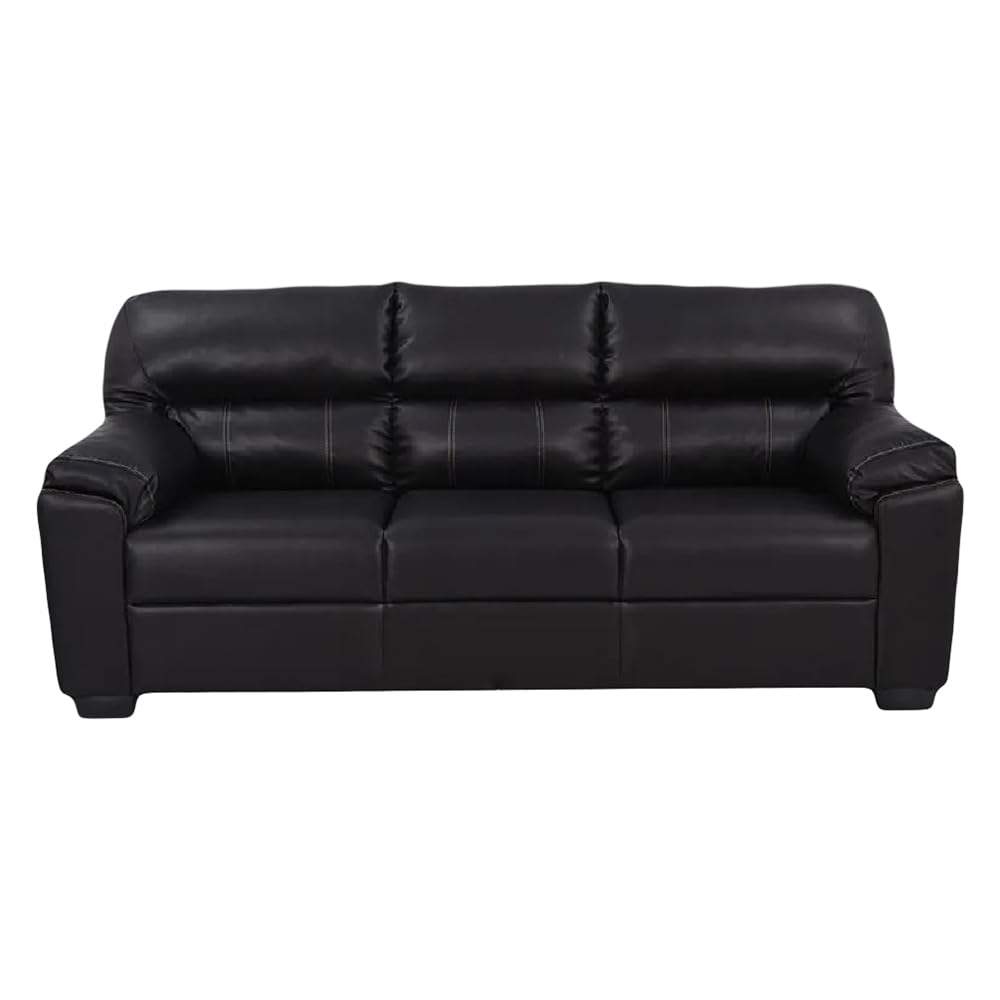3seatersofa: (39, 283, 960, 717)
backrest: (105, 283, 892, 491)
base: (113, 602, 874, 699)
leftarmrest: (807, 403, 962, 703)
rightarmrest: (38, 411, 195, 697)
seat: (126, 490, 873, 605)
